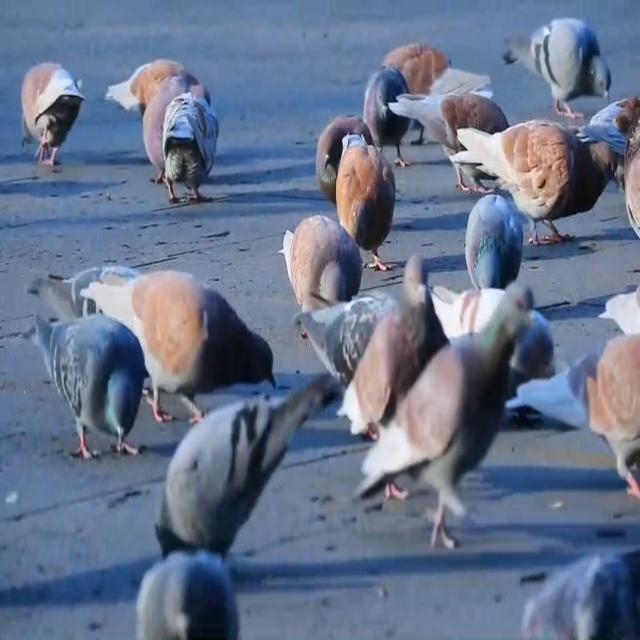bird: (356, 302, 531, 540), (126, 366, 325, 554), (71, 258, 277, 428), (455, 103, 631, 250), (509, 325, 640, 503), (333, 239, 452, 434), (20, 312, 148, 486), (112, 523, 259, 640), (25, 245, 156, 363), (398, 69, 516, 199), (8, 42, 92, 210), (421, 268, 560, 366), (512, 8, 628, 124), (280, 208, 372, 332), (338, 136, 407, 298), (513, 551, 640, 639), (105, 39, 202, 151), (292, 292, 406, 369), (159, 83, 232, 202), (452, 191, 528, 296), (305, 96, 372, 206), (144, 35, 183, 216), (358, 46, 409, 169), (388, 30, 452, 124), (589, 79, 640, 172), (592, 277, 640, 363), (625, 120, 640, 243)
